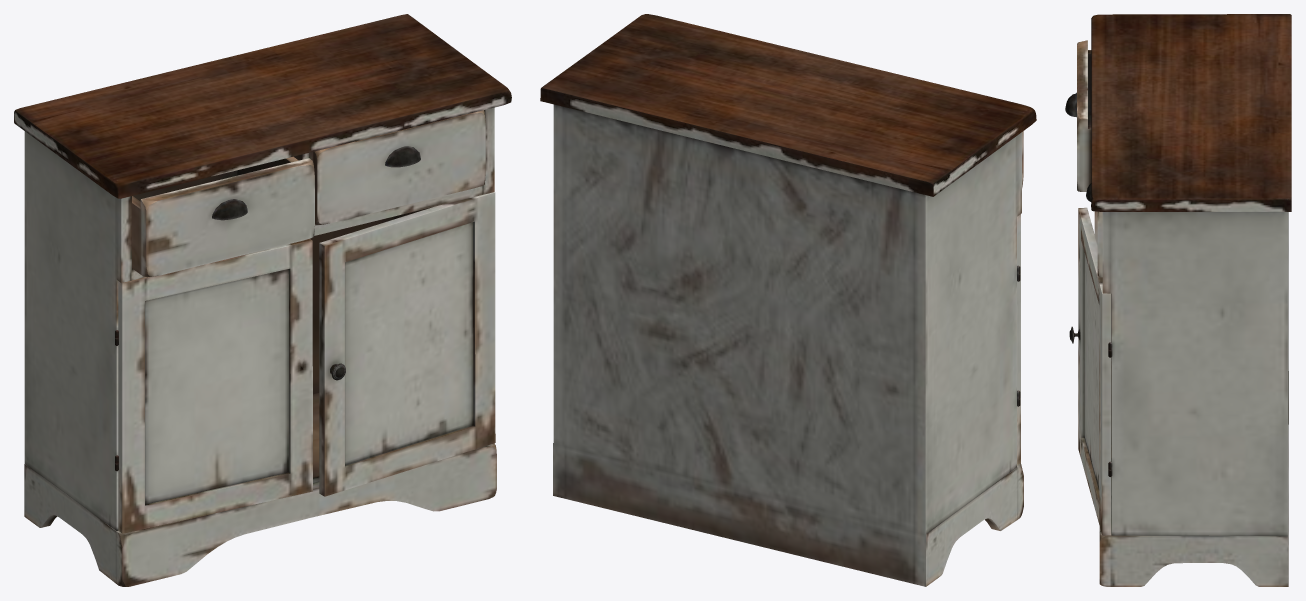
File: painted_wooden_cabinet.lod1.glb
3 views of the same model, side by side, from view 1: azimuth 30°, elevation 25°; view 2: azimuth 150°, elevation 25°; view 3: azimuth 270°, elevation 25° (orthographic). The views are drawn at different scales.
Parts seen in each view (by area): view 1: painted_wooden_cabinet, painted_wooden_cabinet_door_01, painted_wooden_cabinet_door_02, painted_wooden_cabinet_drawer_01, painted_wooden_cabinet_drawer_02; view 2: painted_wooden_cabinet, painted_wooden_cabinet_door_01; view 3: painted_wooden_cabinet, painted_wooden_cabinet_door_02, painted_wooden_cabinet_drawer_01, painted_wooden_cabinet_drawer_02.
Boxes of the visible parts, <box> form: painted_wooden_cabinet: <box>14,14,511,586</box>; painted_wooden_cabinet_door_01: <box>118,238,312,533</box>; painted_wooden_cabinet_door_02: <box>319,192,495,496</box>; painted_wooden_cabinet_drawer_01: <box>132,156,314,277</box>; painted_wooden_cabinet_drawer_02: <box>313,110,485,224</box>; painted_wooden_cabinet: <box>540,14,1036,586</box>; painted_wooden_cabinet_door_01: <box>1017,214,1020,465</box>; painted_wooden_cabinet: <box>1091,14,1291,586</box>; painted_wooden_cabinet_door_02: <box>1069,207,1110,535</box>; painted_wooden_cabinet_drawer_01: <box>1065,40,1091,191</box>; painted_wooden_cabinet_drawer_02: <box>1086,183,1102,277</box>.
Size of the model in its own units: 1.19 by 1.18 by 0.6167.
1 material, 1 textured.
